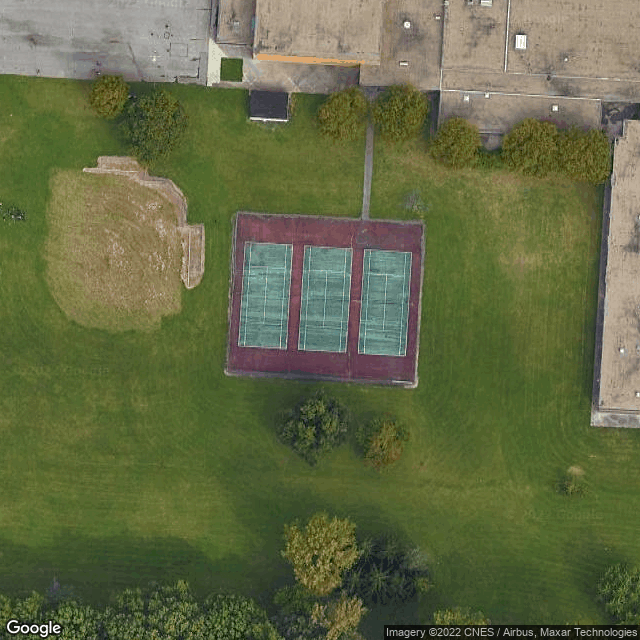Court: (356, 248, 414, 357), (237, 240, 294, 349), (298, 245, 352, 354)
